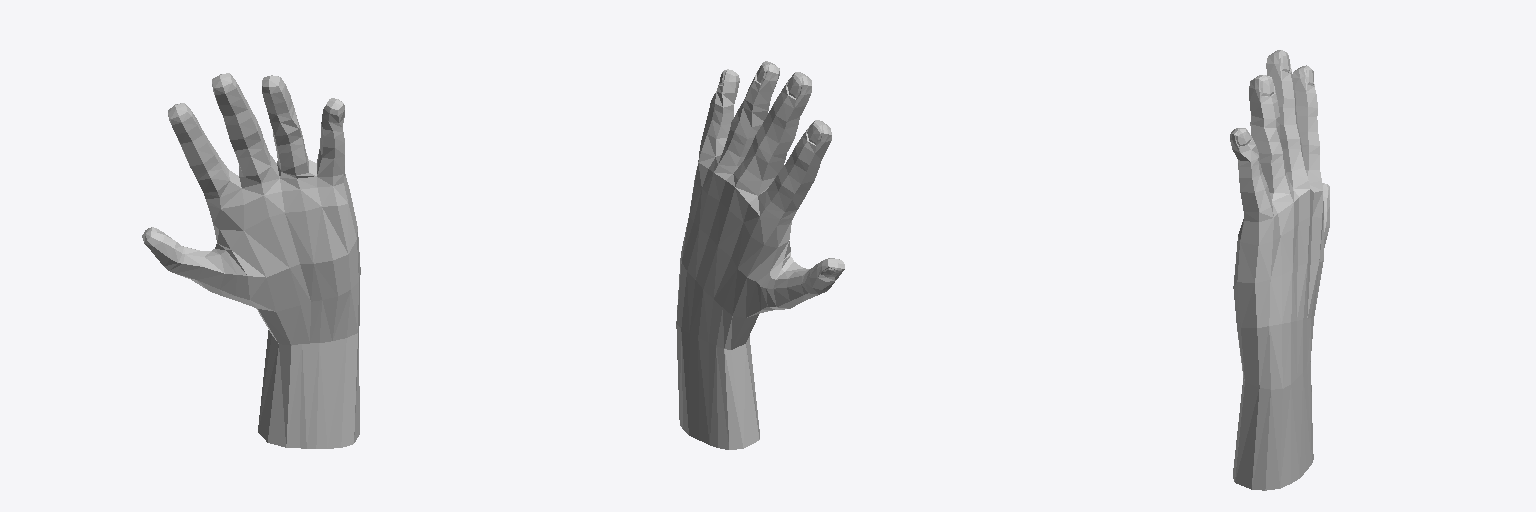
Rendered from handAnimated4_000168.obj.
The picture shows the model from 3 angles: view 1: azimuth 30°, elevation 25°; view 2: azimuth 150°, elevation 25°; view 3: azimuth 270°, elevation 25°; orthographic projection.
Visible parts, largest first — view 1: Cube.000_Cube.017_Detached_Detached; view 2: Cube.000_Cube.017_Detached_Detached; view 3: Cube.000_Cube.017_Detached_Detached.
Part boxes in pixels (x1,y1,x2,y2): Cube.000_Cube.017_Detached_Detached: (142, 73, 360, 448); Cube.000_Cube.017_Detached_Detached: (676, 61, 844, 449); Cube.000_Cube.017_Detached_Detached: (1230, 50, 1329, 490).
Bounding box in the file's own units: 0.6692 × 1.29 × 0.3096.